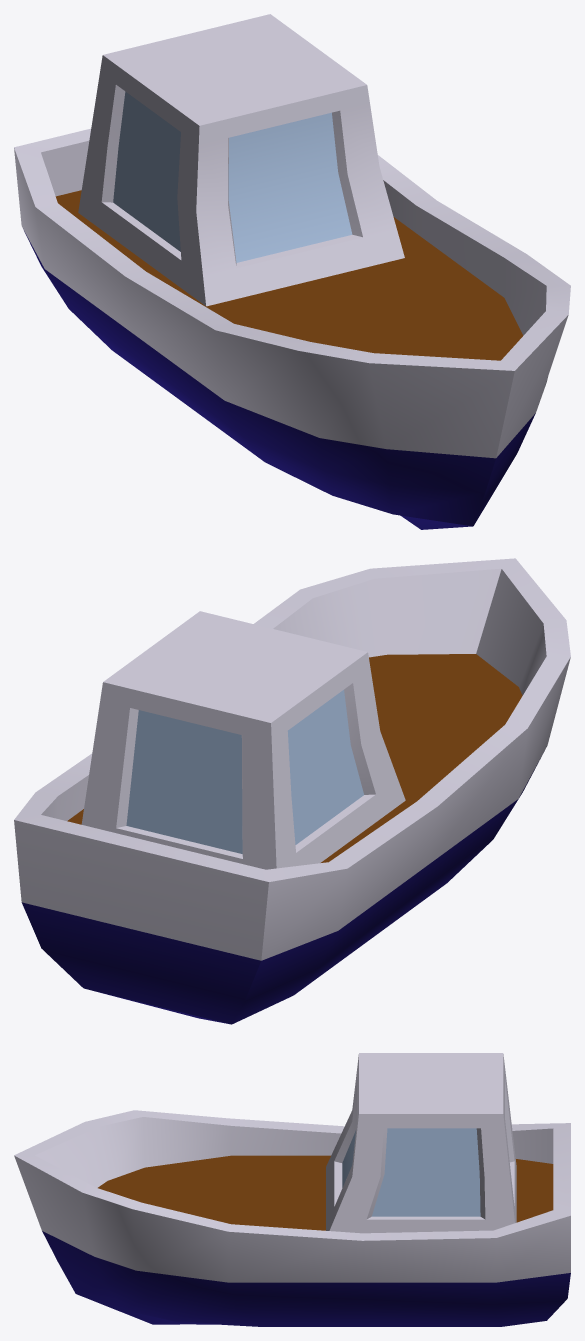
The model's file is littleboat.fbx.
3 renders of one model, top to bottom at view 1: azimuth 30°, elevation 25°; view 2: azimuth 150°, elevation 25°; view 3: azimuth 270°, elevation 25°, orthographic. The views are drawn at different scales.
Visible parts, largest first — view 1: Plane, Cube; view 2: Plane, Cube; view 3: Plane, Cube.
Boxes of the visible parts, left/top/right/bottom form: Plane: left=14, top=128, right=570, bottom=529; Cube: left=78, top=14, right=404, bottom=306; Plane: left=14, top=558, right=570, bottom=1024; Cube: left=81, top=611, right=405, bottom=869; Plane: left=14, top=1110, right=570, bottom=1326; Cube: left=326, top=1053, right=516, bottom=1233.
Size of the model in its own units: 188 by 187 by 391.
